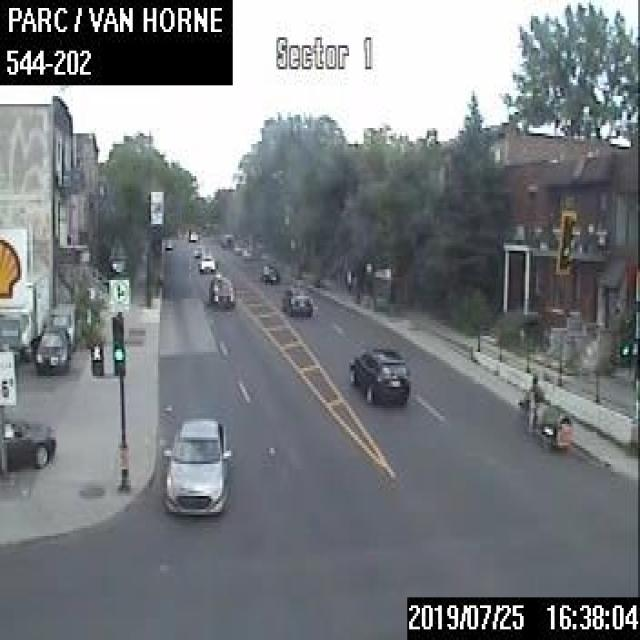vehicle: (160, 413, 233, 518), (516, 373, 573, 451), (348, 345, 410, 405), (1, 418, 54, 470), (34, 323, 70, 371), (48, 300, 79, 350), (280, 285, 313, 315), (208, 272, 234, 305), (198, 252, 217, 272), (260, 264, 277, 280), (192, 242, 202, 255)
